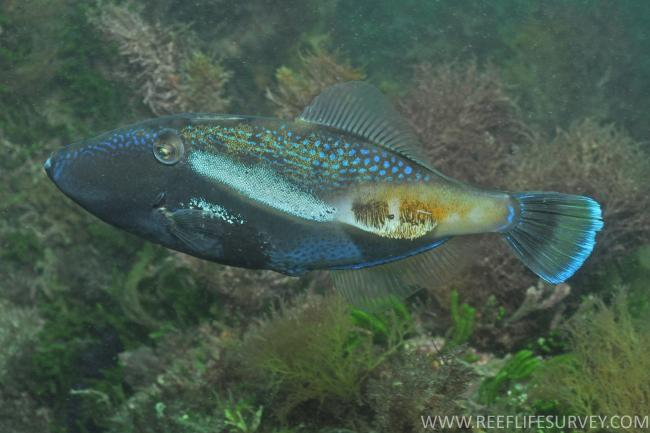fish: (44, 81, 603, 285)
